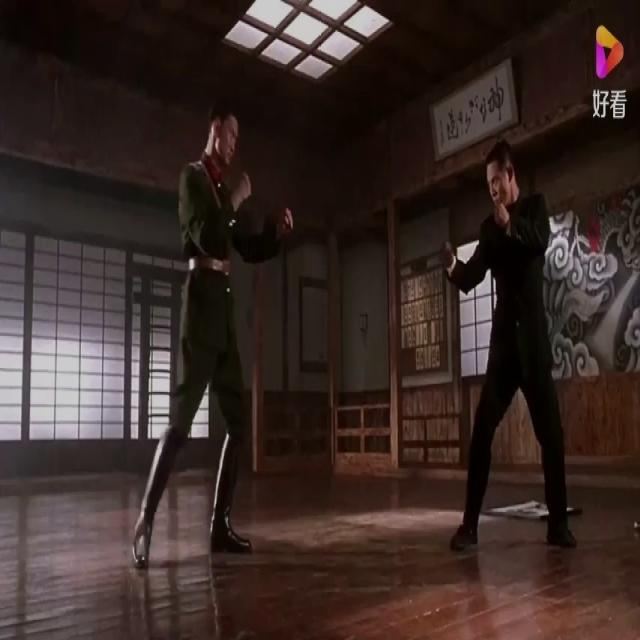fight: (131, 102, 578, 565)
